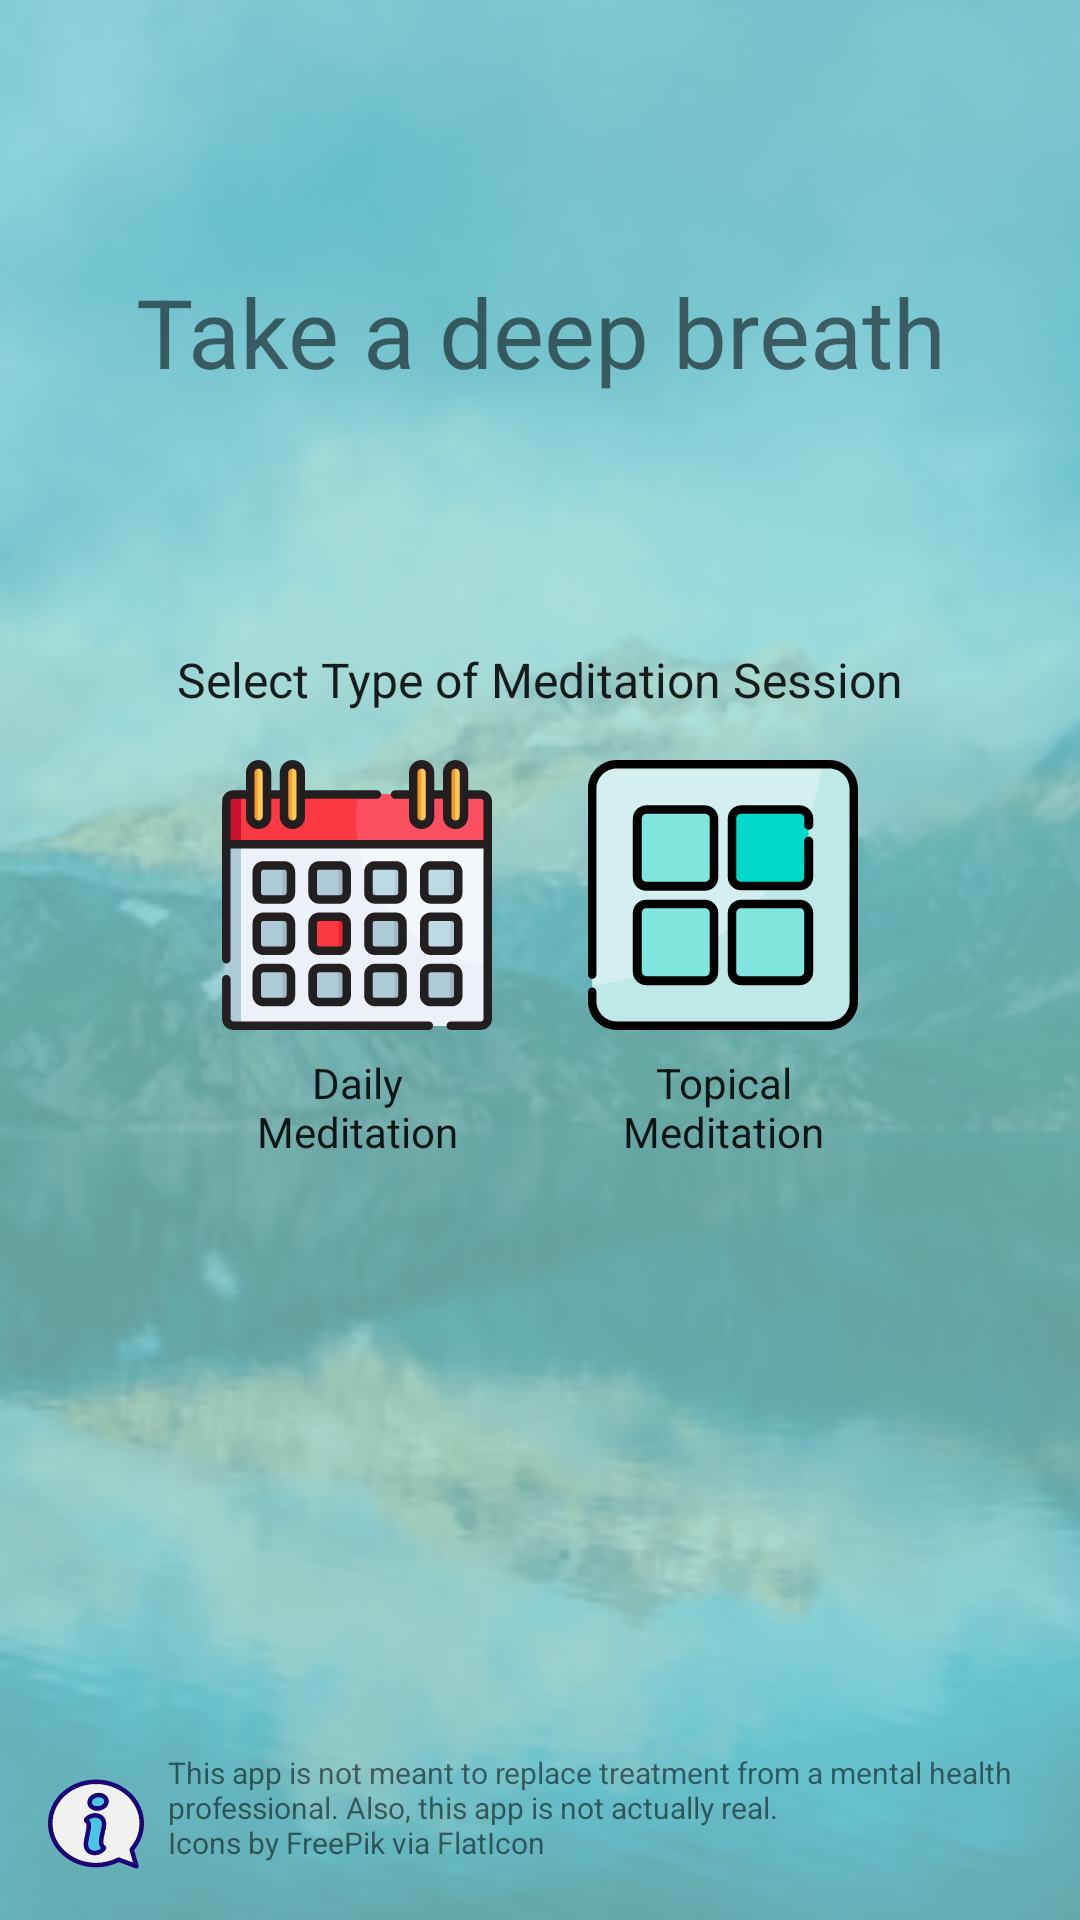

Icons on this 1080x1920 Android screen, each with the point to tap as (x,y):
calendar: (357,895)
information: (96,1824)
tile: (723,895)
